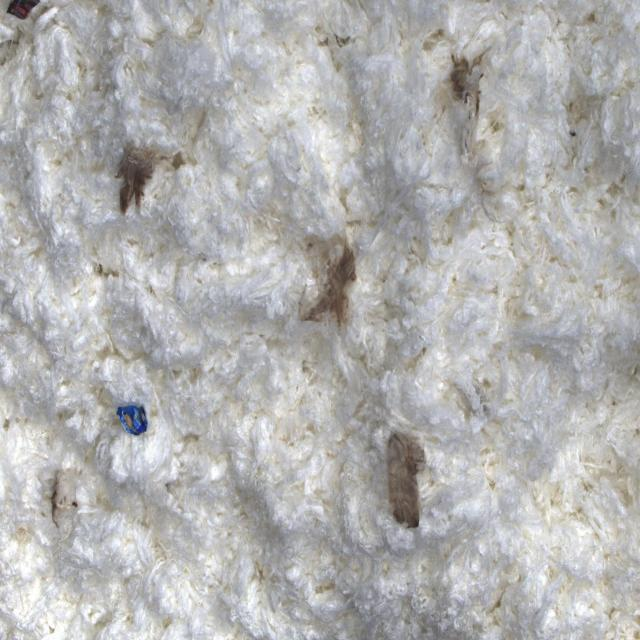dust: (115, 122, 189, 219), (296, 237, 367, 329), (382, 420, 433, 545), (446, 43, 492, 142), (0, 0, 51, 50), (114, 397, 154, 444), (46, 466, 65, 534), (423, 26, 446, 56)
